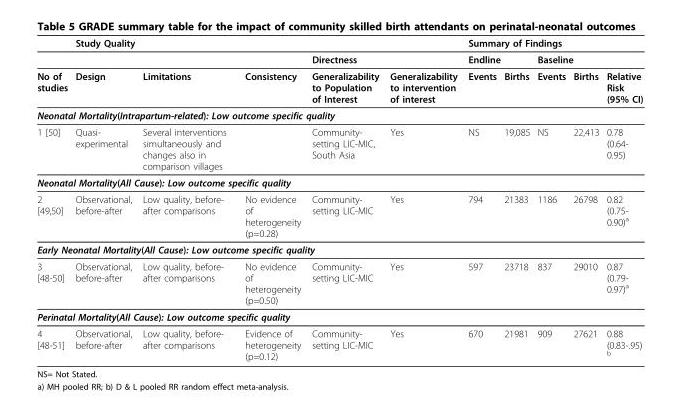table: (36, 36, 642, 361)
table column: (136, 36, 235, 361), (383, 36, 462, 361), (305, 36, 383, 361), (235, 36, 305, 361), (70, 36, 136, 361), (602, 36, 642, 361), (462, 36, 499, 361), (532, 36, 568, 361), (36, 36, 70, 361), (568, 36, 602, 361), (499, 36, 532, 361)
table column header: (36, 36, 642, 106)
table projected row header: (36, 106, 642, 123), (36, 173, 642, 190), (36, 241, 642, 257), (36, 308, 642, 324)
table row: (36, 190, 642, 241), (36, 257, 642, 308), (36, 123, 642, 173), (36, 67, 642, 106), (36, 324, 642, 361), (36, 50, 642, 67), (36, 106, 642, 123), (36, 173, 642, 190), (36, 241, 642, 257), (36, 308, 642, 324), (36, 36, 642, 50)
table spanning cell: (136, 50, 235, 106), (70, 36, 462, 50), (235, 50, 305, 106), (70, 50, 136, 106), (305, 50, 462, 67), (462, 36, 642, 50), (36, 36, 70, 106), (602, 50, 642, 106), (462, 50, 532, 67), (532, 50, 602, 67)
